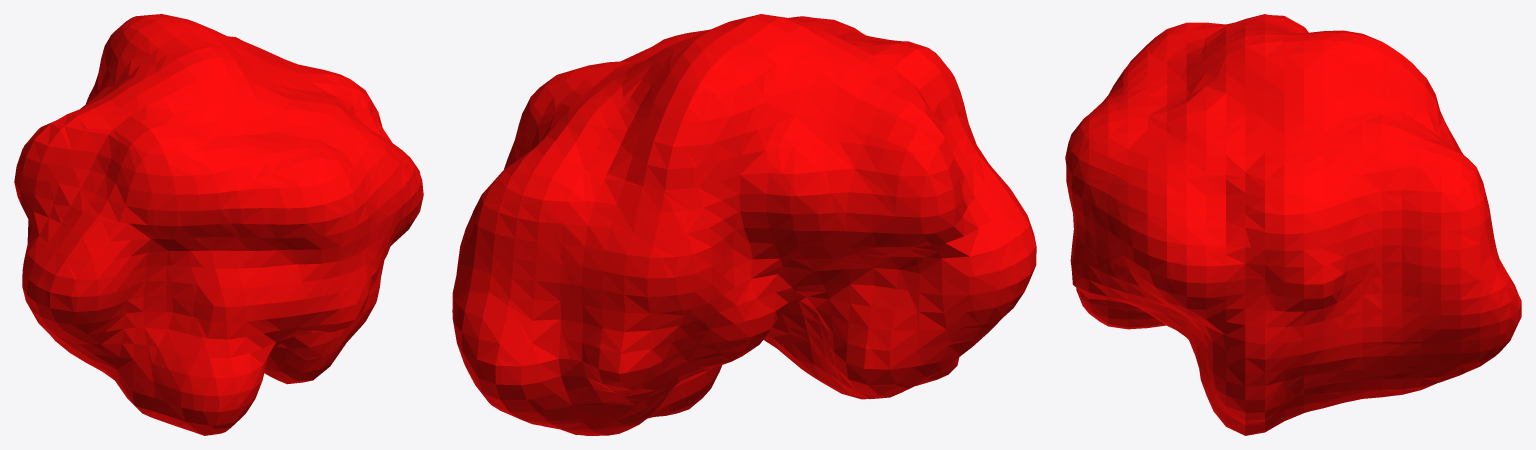
Rendered from bioD2_coarse.dae.
3 renders of one model, left to right at view 1: azimuth 30°, elevation 25°; view 2: azimuth 150°, elevation 25°; view 3: azimuth 270°, elevation 25°, orthographic. The views are drawn at different scales.
Visible parts, largest first — view 1: bioD2; view 2: bioD2; view 3: bioD2.
Boxes of the visible parts, <box> form: bioD2: <box>14,14,423,435</box>; bioD2: <box>452,14,1036,435</box>; bioD2: <box>1065,14,1521,435</box>.
Bounding box in the file's own units: 50.18 × 44.15 × 51.47.
